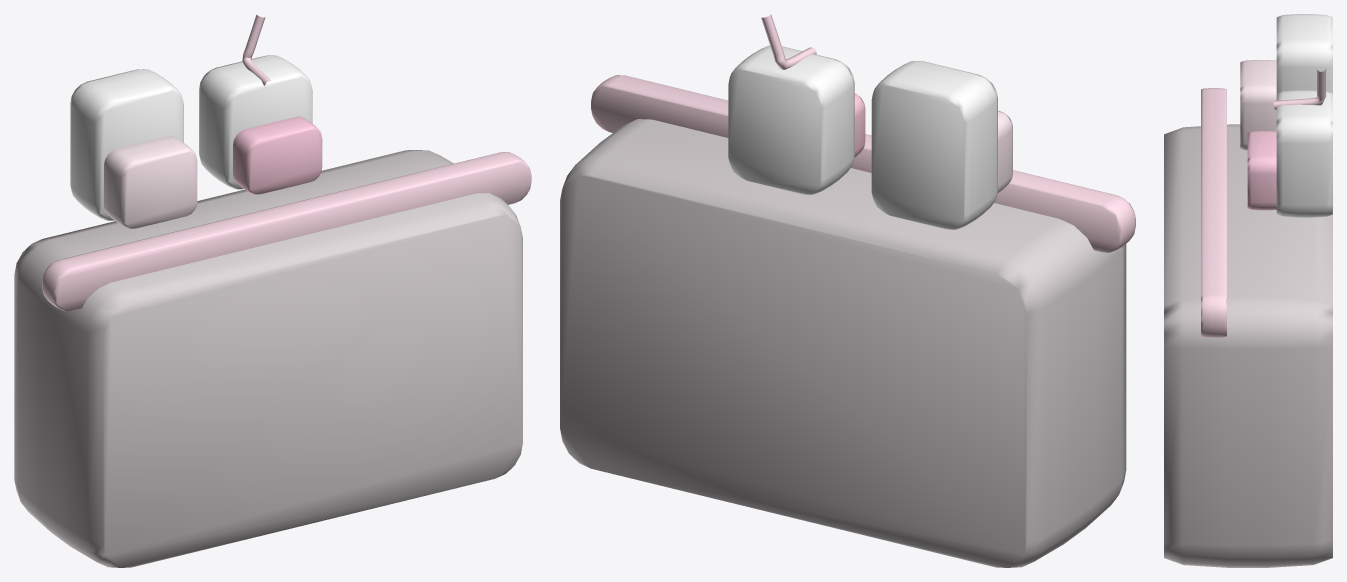
File: decor_2_candy.glb
3 renders of one model, left to right at view 1: azimuth 30°, elevation 25°; view 2: azimuth 150°, elevation 25°; view 3: azimuth 270°, elevation 25°, orthographic. The views are drawn at different scales.
Parts seen in each view (by area): view 1: decor_2_candy; view 2: decor_2_candy; view 3: decor_2_candy.
Boxes of the visible parts, x1,y1,x2,y2 form: decor_2_candy: (14,15,531,567); decor_2_candy: (560,14,1135,567); decor_2_candy: (1164,14,1332,567).
Size of the model in its own units: 17.1 by 15.36 by 5.51.
